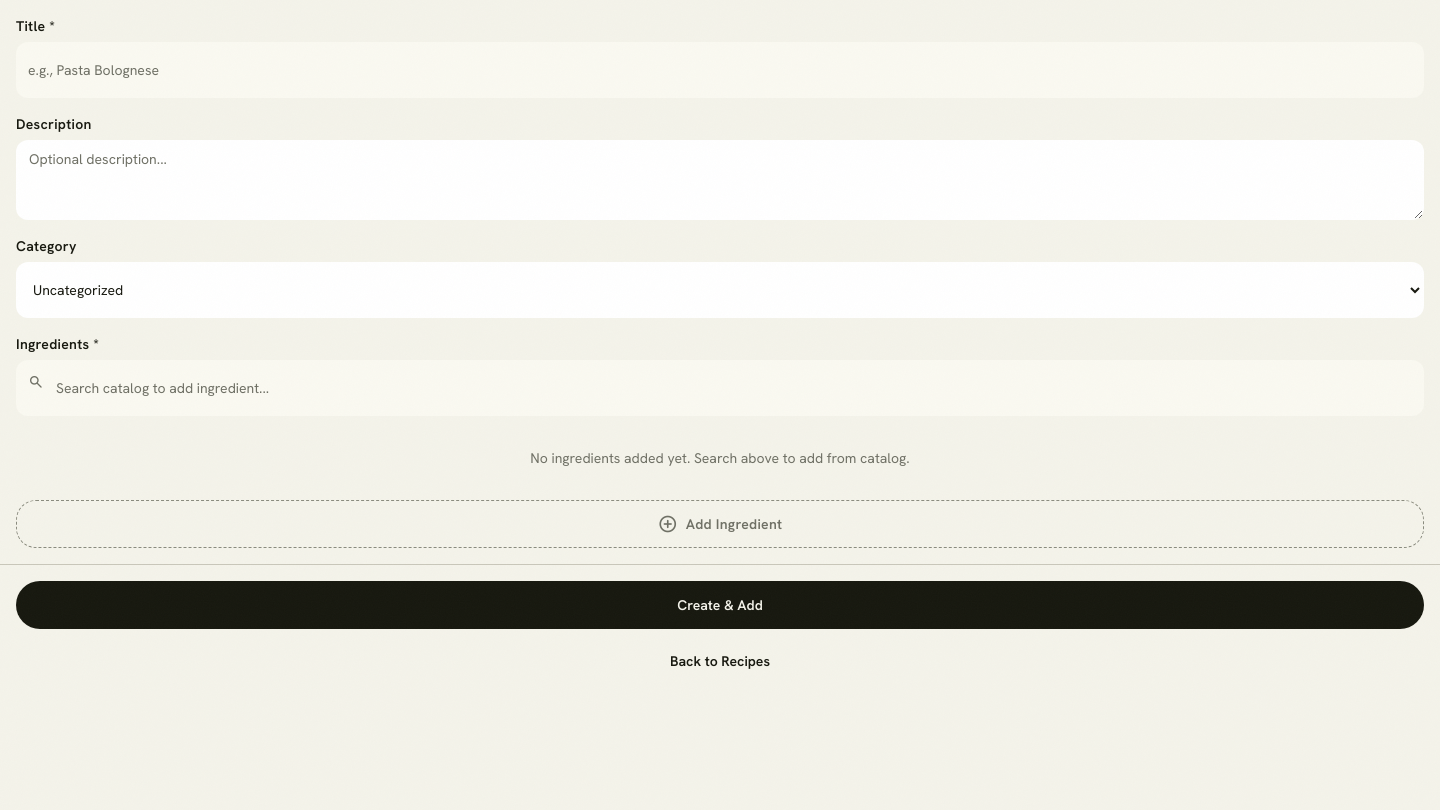
Test: InlineRecipeForm › validation › should show error when no ingredients added
Type "Test Recipe" into the field labelled "Title *". click: [720, 70]
box: [16,42,1424,98]
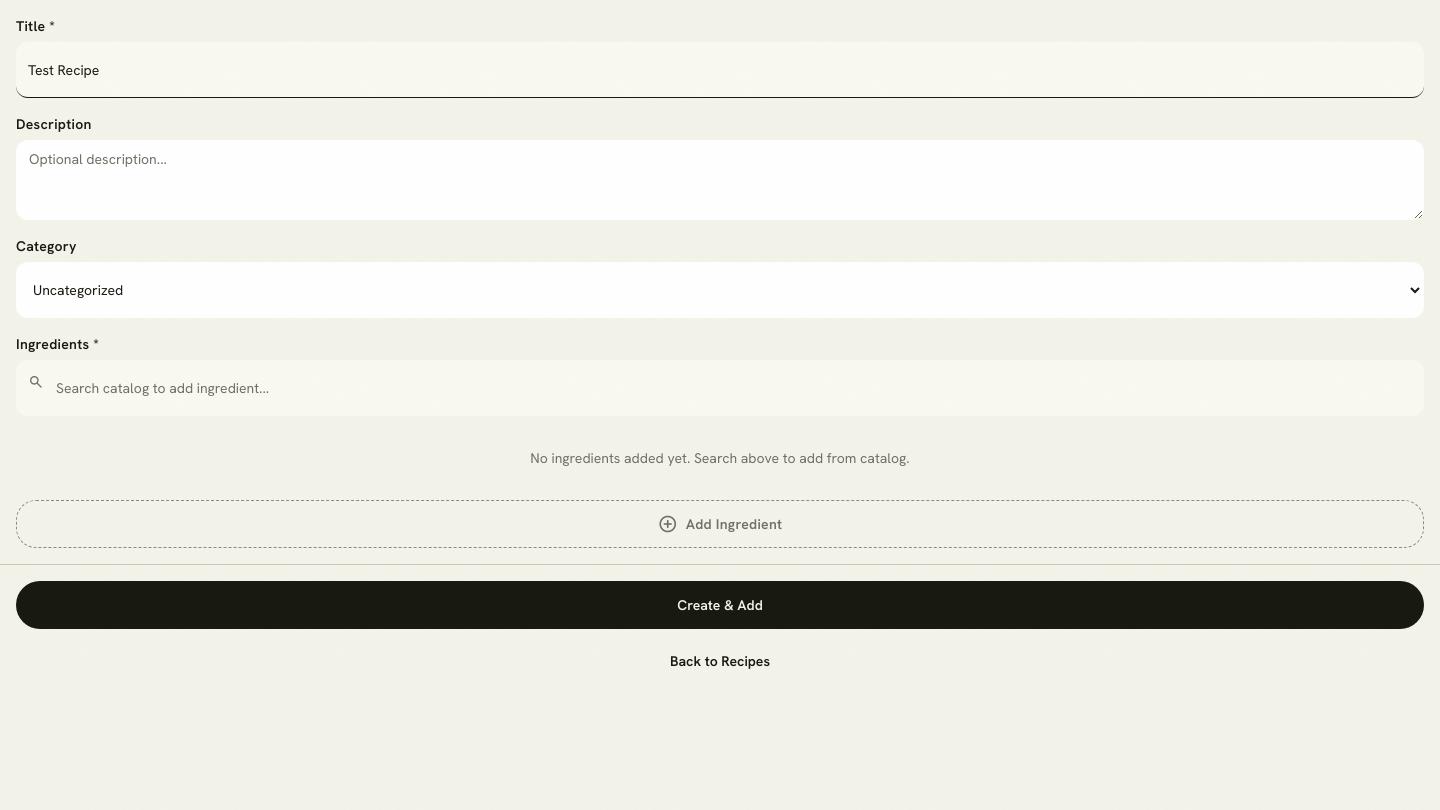
Click the button "Create & Add". click: [720, 605]
box: [16,581,1424,629]
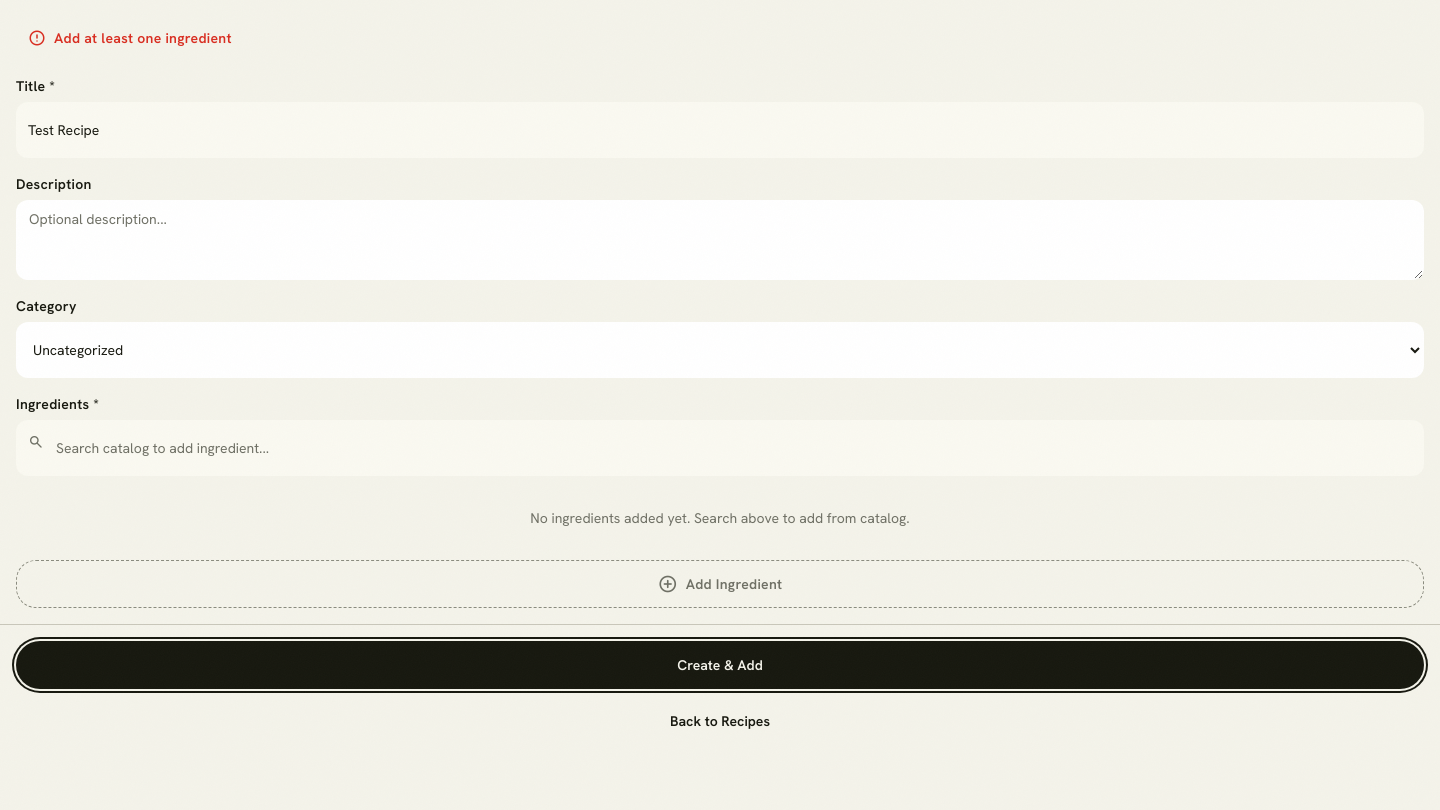
Expected: the text "Add at least one ingredient" is shown, [28,27,232,49]
